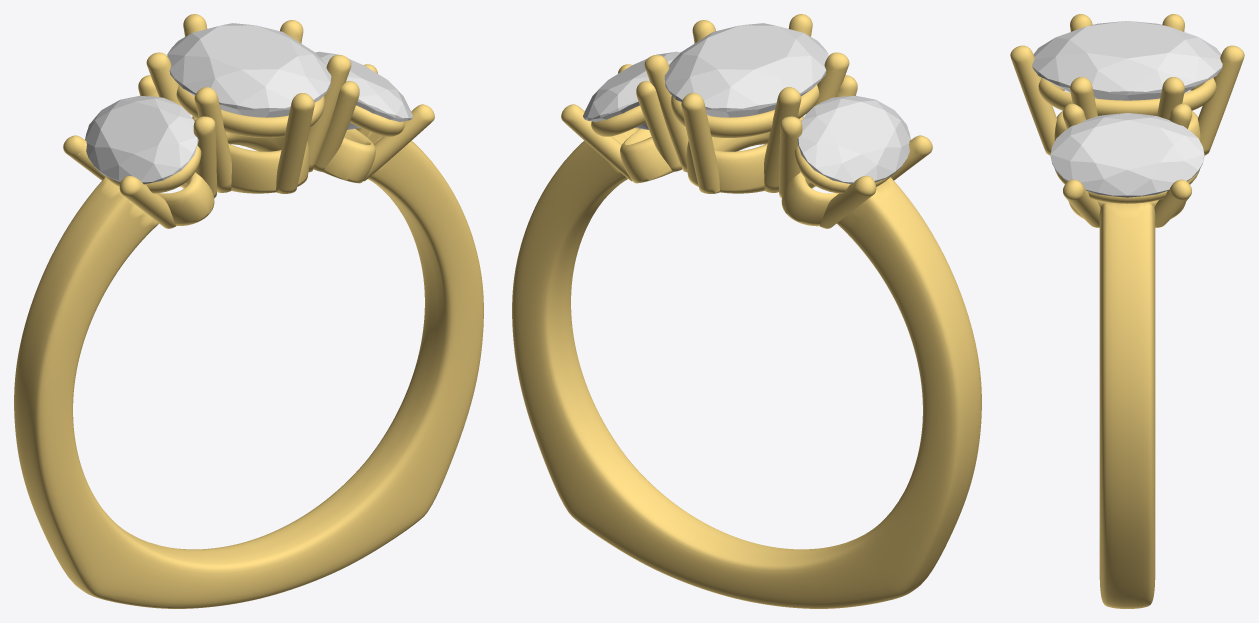
File: diamond-oval-yellowgold-6prong-europeanshank-3stone.glb
3 views of the same model, side by side, from view 1: azimuth 30°, elevation 25°; view 2: azimuth 150°, elevation 25°; view 3: azimuth 270°, elevation 25° (orthographic). The views are drawn at different scales.
Visible parts, largest first — view 1: metal, stone.001, side.002, side.003; view 2: metal, stone.001, side.002, side.003; view 3: metal, stone.001, side.003.
Part boxes in pixels (<box>): metal: <box>14,14,483,608</box>; stone.001: <box>167,23,331,117</box>; side.002: <box>85,95,198,184</box>; side.003: <box>315,51,412,129</box>; metal: <box>512,14,981,608</box>; stone.001: <box>664,23,828,117</box>; side.002: <box>797,95,910,184</box>; side.003: <box>583,51,680,129</box>; metal: <box>1010,14,1244,608</box>; stone.001: <box>1032,21,1222,100</box>; side.003: <box>1050,113,1204,197</box>.
Size of the model in its own units: 20.11 by 23.21 by 9.29.
